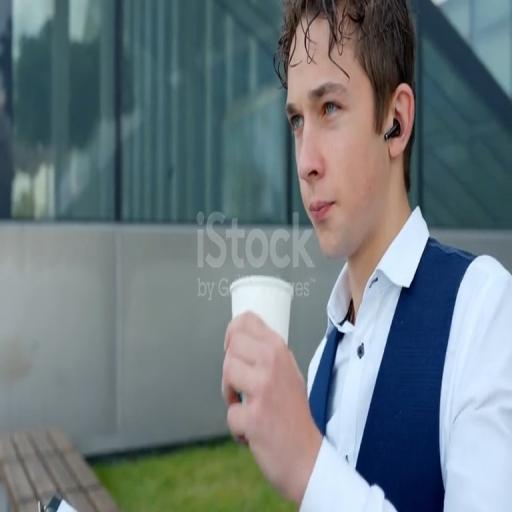earphone: (381, 108, 403, 147)
